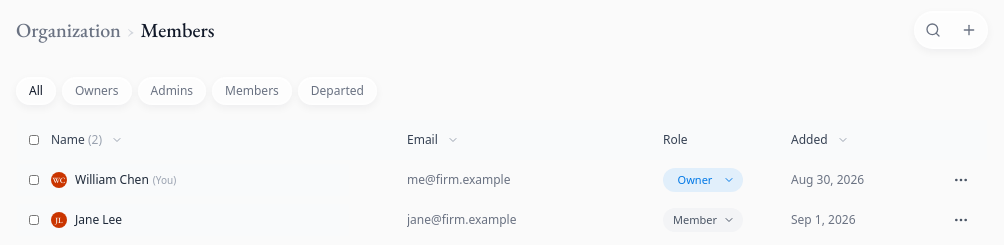
Test: the Departed view › is a tab for owners, showing who left in place of the roster
Expected: the text "William Chen" is shown, [75,172,149,188]
Click the button "Departed": [337, 91] box [298,77,377,105]
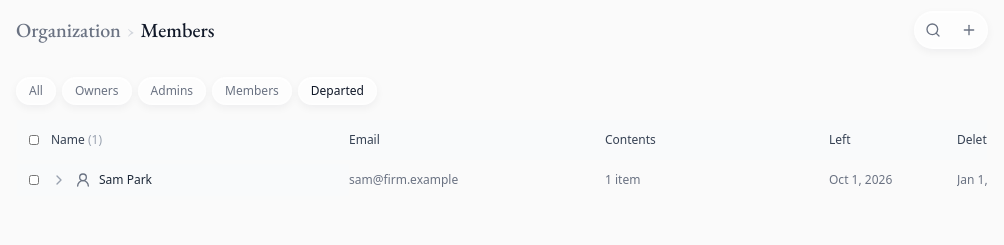
Expected: the button named "Search departed members…" is shown, [919,16,947,44]
Now the text "Sam Park" is shown, box [99,172,152,188]
Now the text "William Chen" is gone
// And back to the roster.
Click the button "All": [36, 91] box [16,77,56,105]
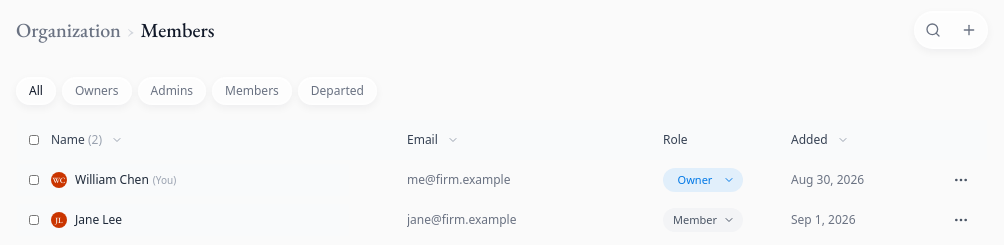
Now the text "William Chen" is shown, box [75,172,149,188]
Now the text "Sam Park" is gone
